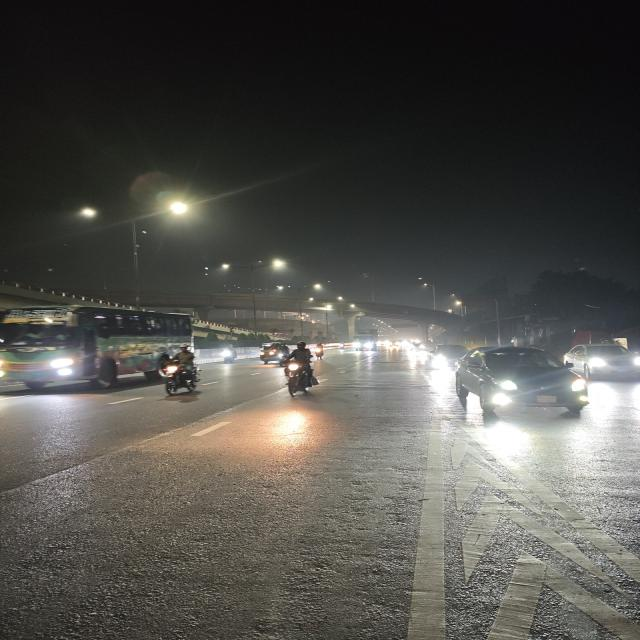bus: (0, 304, 196, 392)
car: (447, 344, 591, 420), (565, 340, 640, 381)
cng: (255, 339, 294, 366)
motorcycle: (154, 345, 207, 400), (278, 341, 322, 401), (215, 342, 245, 364)
truck: (353, 329, 378, 353)
